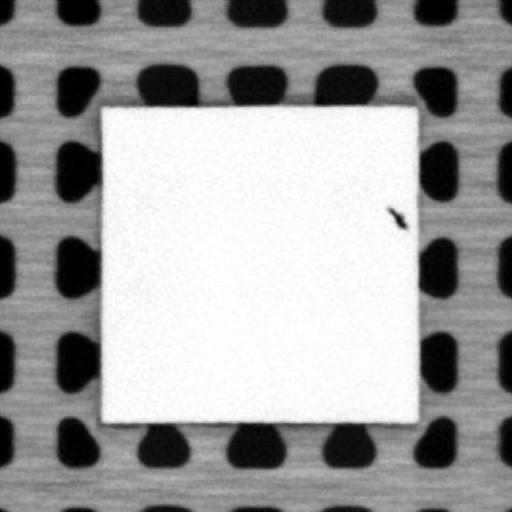DIE_INK: (385, 204, 409, 228)
